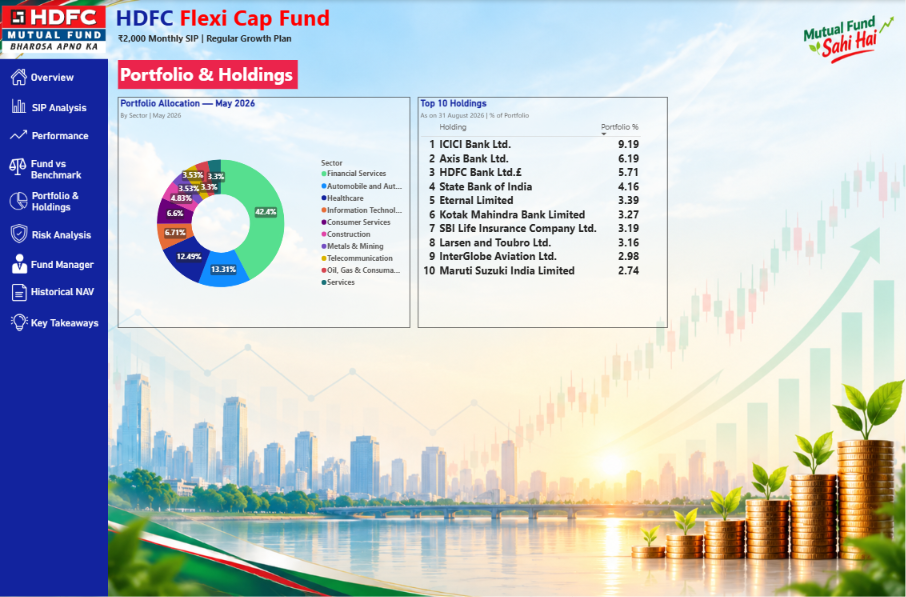

The dashboard page shown, as its layout file describes it:
{"tool":"powerbi","page":{"name":"Portfolio & Holdings","canvas":[2200,1450],"ordinal":4},"visuals":[{"type":"textbox","box":[285.7,146.7,436.6,70],"z":0},{"type":"shape","box":[0,143.1,262.4,1306.2],"z":1000},{"type":"image","box":[18.4,163.9,53.3,49.2],"z":2000},{"type":"image","box":[16.4,235.6,59.4,43],"z":3000},{"type":"image","box":[20.5,297.1,51.2,61.5],"z":4000},{"type":"image","box":[12.3,377,61.5,57.4],"z":5000},{"type":"image","box":[16.4,461,55.3,53.3],"z":6000},{"type":"image","box":[16.4,532.7,59.4,69.7],"z":7000},{"type":"image","box":[18.4,612.6,57.4,57.4],"z":8000},{"type":"image","box":[22.5,686.3,55.3,51.2],"z":9000},{"type":"image","box":[22.5,756,51.2,55.3],"z":10000},{"type":"actionButton","title":"Performance","box":[77.6,315.6,167.7,61.3],"z":11000},{"type":"actionButton","title":"Fund vs Benchmark","box":[76.2,383.3,169.4,76.2],"z":12000},{"type":"actionButton","title":"Portfolio &  Holdings","box":[77.9,461,184.4,71.7],"z":13000},{"type":"actionButton","title":"Risk Analysis","box":[77.6,555.5,167.7,64.9],"z":14000},{"type":"actionButton","title":"SIP Analysis","box":[77.9,247.9,168,61.5],"z":15000},{"type":"actionButton","title":"Fund Manager","box":[75.8,629,172.1,57.4],"z":16000},{"type":"actionButton","title":"Historical NAV","box":[75.8,694.5,178.2,79.9],"z":17000},{"type":"actionButton","title":"Key Takeaways","box":[75.8,770.3,188.5,63.5],"z":18000},{"type":"textbox","box":[262.5,0,557.5,81.7],"z":19000},{"type":"textbox","box":[282.5,72.5,457.5,38.8],"z":20000},{"type":"image","box":[0,0,262.1,142.8],"z":21000},{"type":"donutChart","title":"Portfolio Allocation — May 2026","fields":{"Category":["Sector_May_2026.Sector"],"Y":["Sum(Sector_May_2026.May-26 %)"]},"box":[286.3,236.6,709.7,560.6],"z":22000},{"type":"tableEx","title":"Top 10 Holdings","fields":{"Values":["Sum(HDFCEQ.No)","HDFCEQ.Holding","Sum(HDFCEQ.Portfolio %)"]},"box":[1015.9,236.6,606.4,560.6],"z":23000},{"type":"actionButton","title":"Overview","box":[75.5,173,133.2,63.6],"z":24000}]}

Visuals, with their boxes in screenshot pixels (x1, y1, x2, y2), scaled from the page's 2200x1450 canvas onto the 906x597 screenshot:
textbox: crop(118, 60, 297, 89)
shape: crop(0, 59, 108, 596)
image: crop(8, 67, 30, 88)
image: crop(7, 97, 31, 115)
image: crop(8, 122, 30, 148)
image: crop(5, 155, 30, 179)
image: crop(7, 190, 30, 212)
image: crop(7, 219, 31, 248)
image: crop(8, 252, 31, 276)
image: crop(9, 283, 32, 304)
image: crop(9, 311, 30, 334)
"Performance" actionButton: crop(32, 130, 101, 155)
"Fund vs Benchmark" actionButton: crop(31, 158, 101, 189)
"Portfolio &  Holdings" actionButton: crop(32, 190, 108, 219)
"Risk Analysis" actionButton: crop(32, 229, 101, 255)
"SIP Analysis" actionButton: crop(32, 102, 101, 127)
"Fund Manager" actionButton: crop(31, 259, 102, 283)
"Historical NAV" actionButton: crop(31, 286, 105, 319)
"Key Takeaways" actionButton: crop(31, 317, 109, 343)
textbox: crop(108, 0, 338, 34)
textbox: crop(116, 30, 305, 46)
image: crop(0, 0, 108, 59)
"Portfolio Allocation — May 2026" donutChart: crop(118, 97, 410, 328)
"Top 10 Holdings" tableEx: crop(418, 97, 668, 328)
"Overview" actionButton: crop(31, 71, 86, 97)
